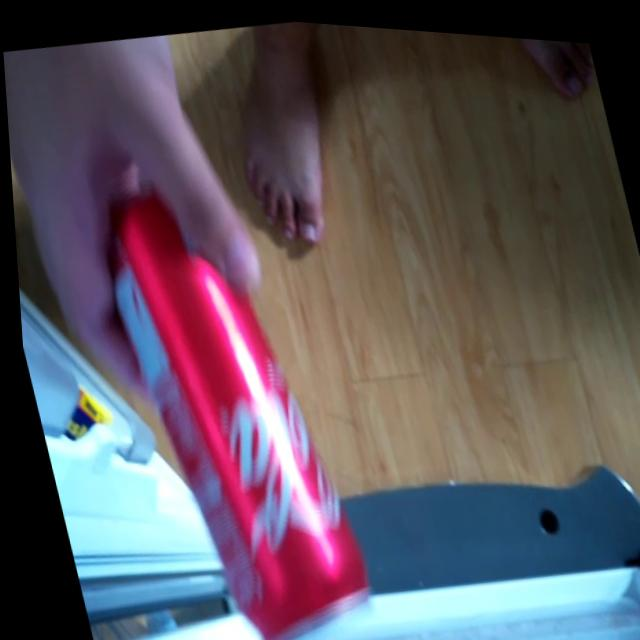coke: (90, 164, 381, 640)
